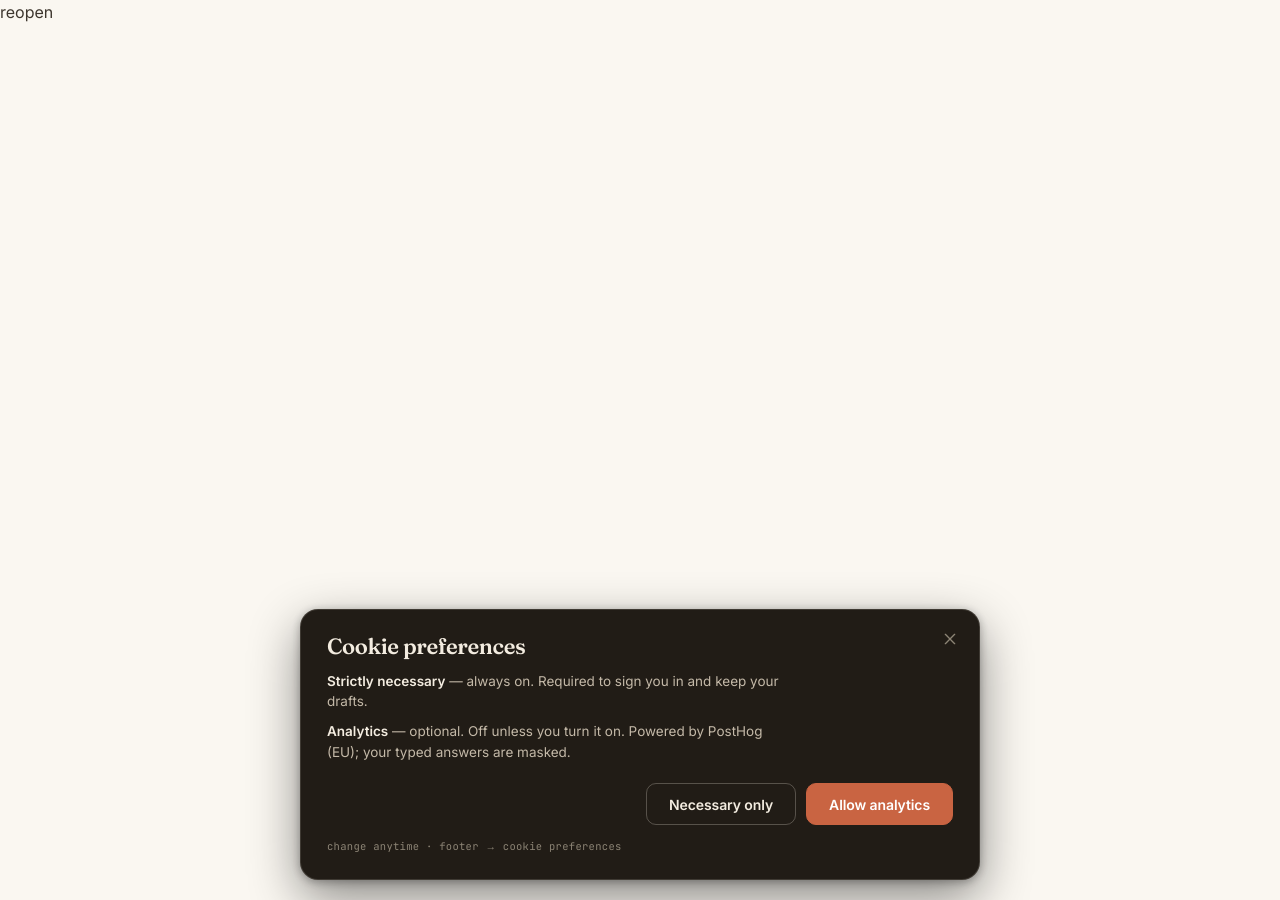
Test case: CookieBanner › Decide later (✕) hides the card without recording a choice
Click the button named "decide later": (950, 639) [935,624,965,654]
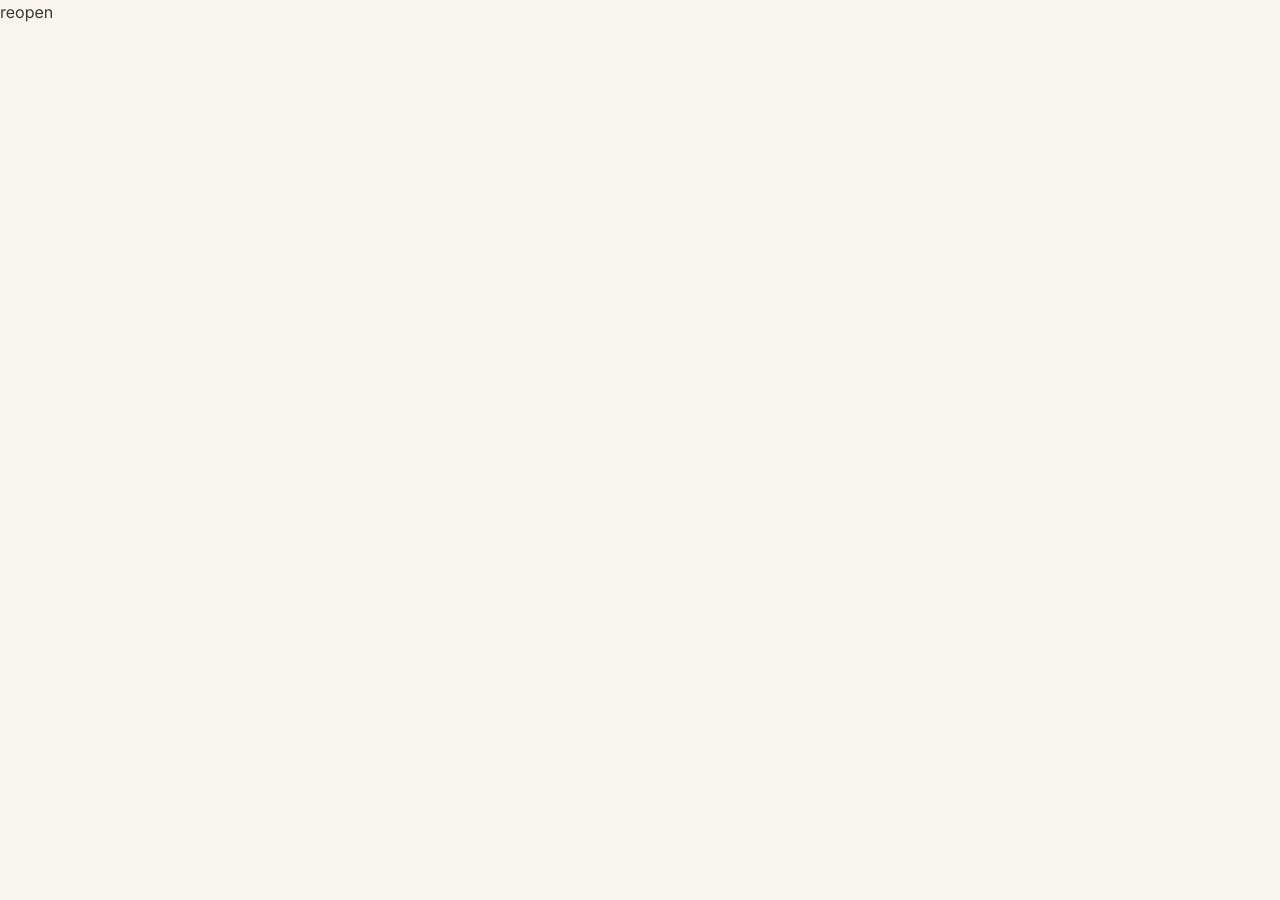
Expected: the heading "Cookie preferences" is gone
